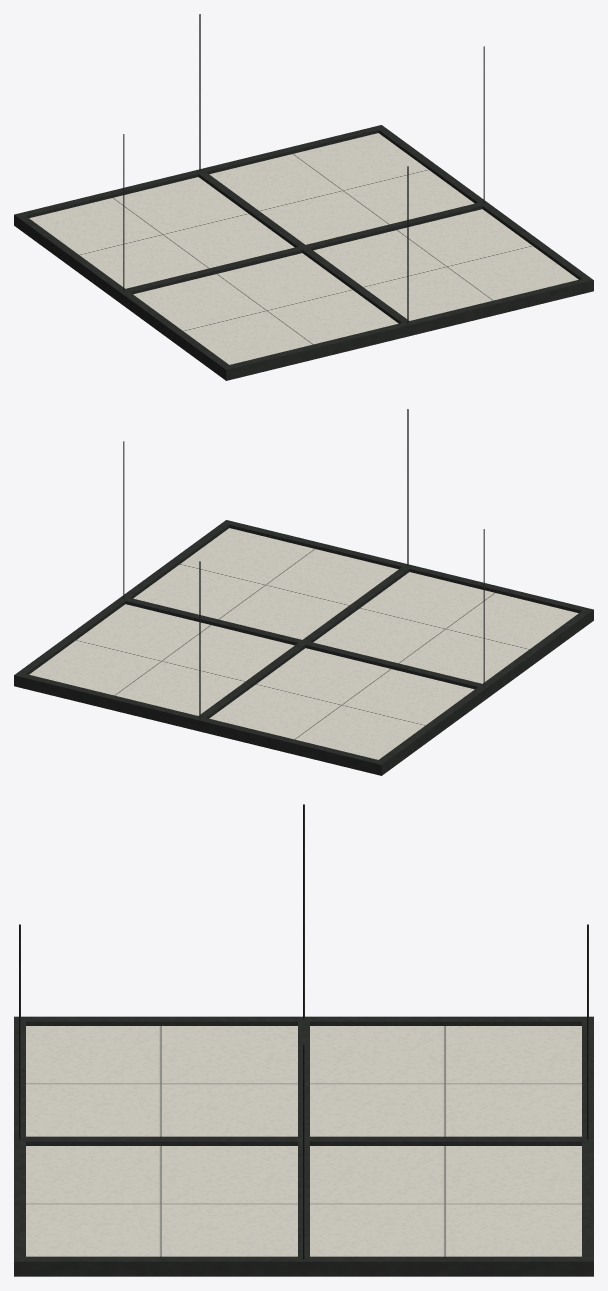
File: X14_PART_DropCeiling_120.glb
3 views of the same model, one above another, from view 1: azimuth 30°, elevation 25°; view 2: azimuth 150°, elevation 25°; view 3: azimuth 270°, elevation 25° (orthographic). The views are drawn at different scales.
Visible parts, largest first — view 1: X14_PART_DropCeiling_120_LOD0; view 2: X14_PART_DropCeiling_120_LOD0; view 3: X14_PART_DropCeiling_120_LOD0.
Boxes of the visible parts, left/top/right/bottom form: X14_PART_DropCeiling_120_LOD0: left=14, top=14, right=593, bottom=380; X14_PART_DropCeiling_120_LOD0: left=14, top=409, right=593, bottom=775; X14_PART_DropCeiling_120_LOD0: left=14, top=804, right=593, bottom=1276.
Size of what is drawn, in the model's own units: 1.22 by 0.535 by 1.22.
2 materials, 2 textured.
